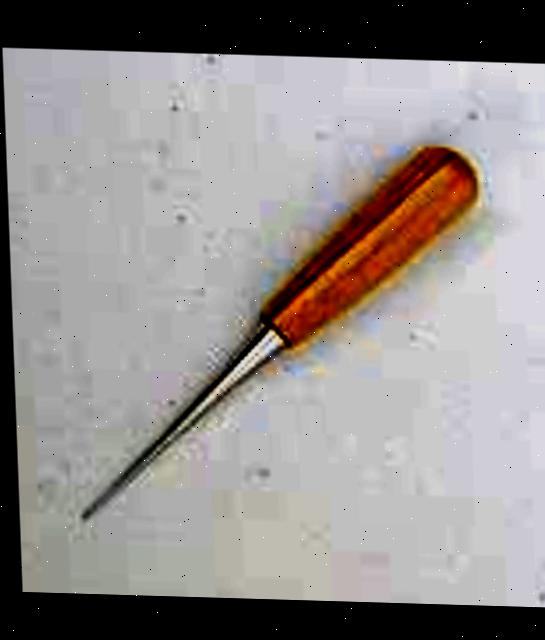ice pick: (59, 133, 491, 535)
